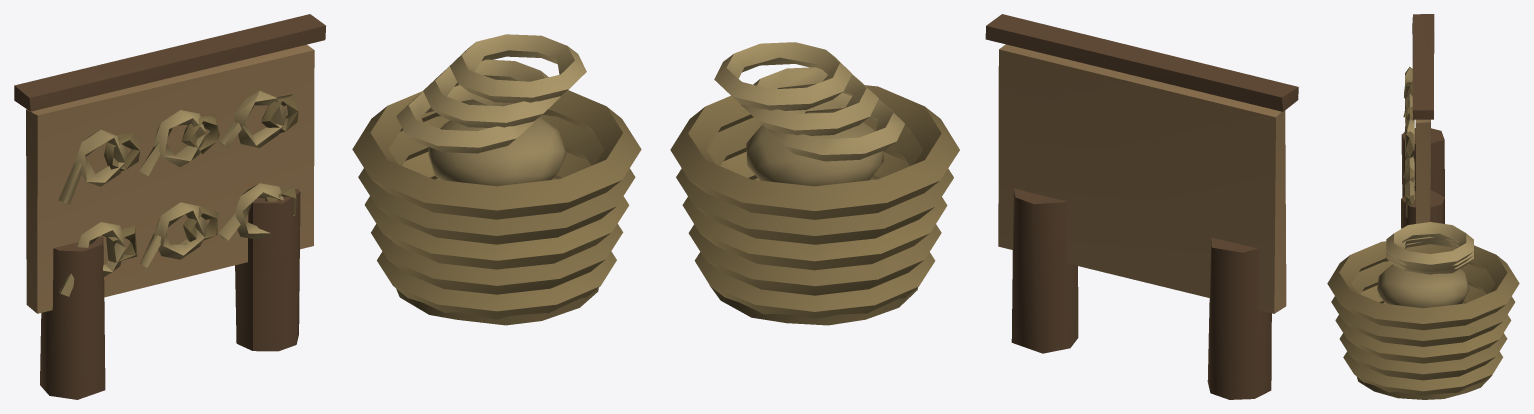
File: knot_board_a_lod1.glb
The picture shows the model from 3 angles, left to right: view 1: azimuth 30°, elevation 25°; view 2: azimuth 150°, elevation 25°; view 3: azimuth 270°, elevation 25°; orthographic projection. The views are drawn at different scales.
Parts seen in each view (by area): view 1: Surface.001; view 2: Surface.001; view 3: Surface.001.
Boxes of the visible parts, left/top/right/bottom form: Surface.001: left=14, top=14, right=641, bottom=399; Surface.001: left=670, top=14, right=1298, bottom=399; Surface.001: left=1327, top=14, right=1519, bottom=399.
Bounding box in the file's own units: 3.4 × 1.66 × 1.42.
